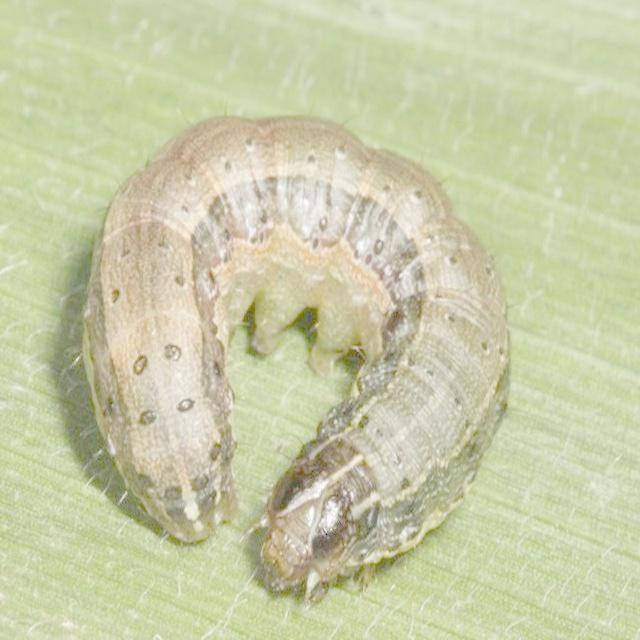gusano_cogollero: (81, 105, 518, 599)
